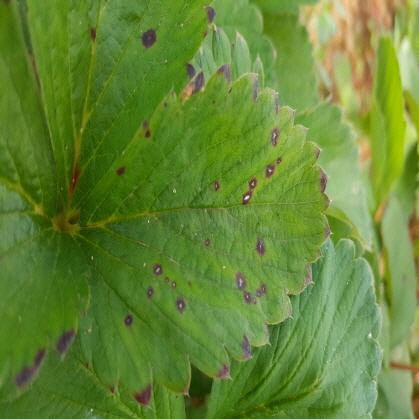Leaf Spot: (67, 62, 333, 409), (25, 0, 216, 221)
